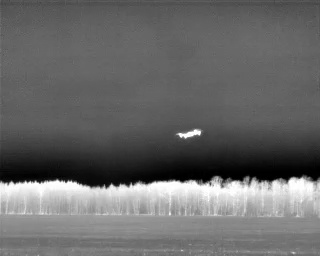DRONE: (171, 123, 207, 145)
